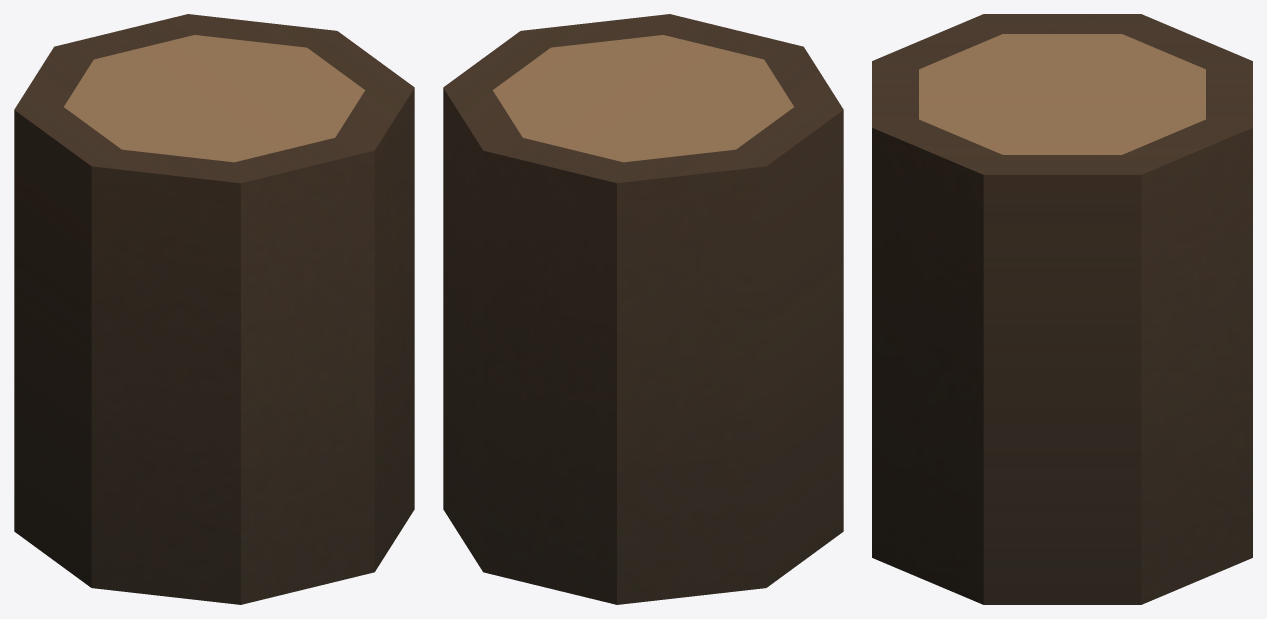
File: Chopped_Log.obj
The picture shows the model from 3 angles, left to right: view 1: azimuth 30°, elevation 25°; view 2: azimuth 150°, elevation 25°; view 3: azimuth 270°, elevation 25°; orthographic projection.
Visible parts, largest first — view 1: Chopped_Log; view 2: Chopped_Log; view 3: Chopped_Log.
Boxes of the visible parts, x1,y1,x2,y2 form: Chopped_Log: (14,14,414,604); Chopped_Log: (443,14,843,604); Chopped_Log: (872,14,1252,604).
Size of the model in its own units: 0.3787 by 0.472 by 0.3787.
